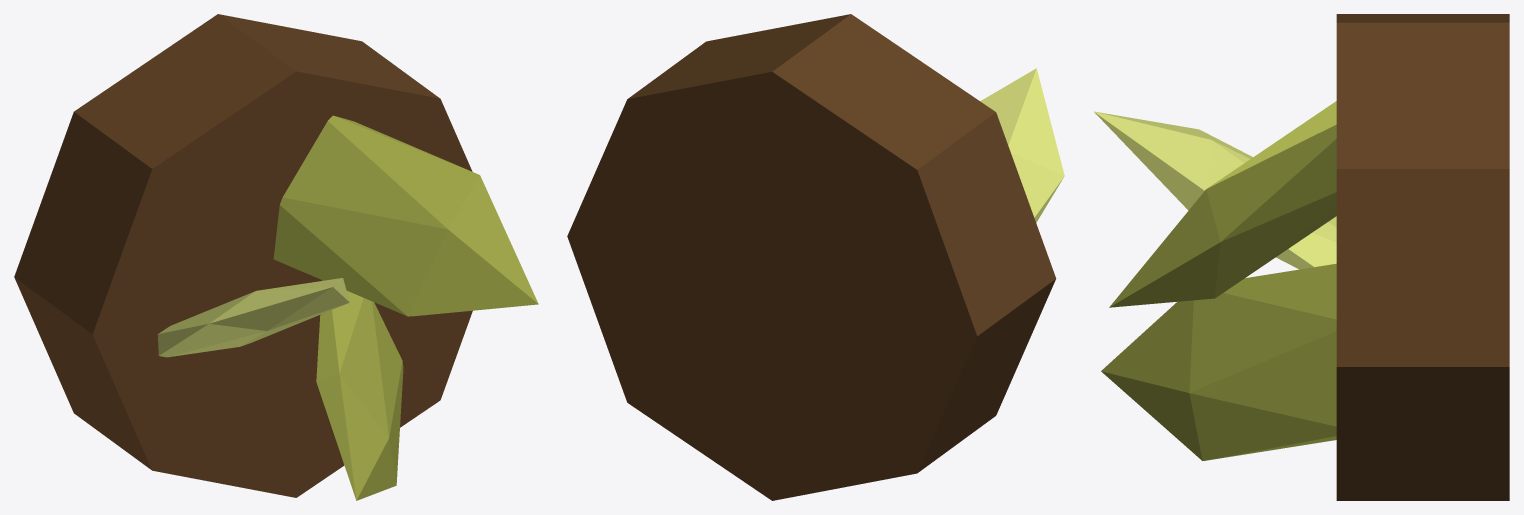
File: 1_seedling.obj
The picture shows the model from 3 angles, left to right: view 1: azimuth 30°, elevation 25°; view 2: azimuth 150°, elevation 25°; view 3: azimuth 270°, elevation 25°; orthographic projection. The views are drawn at different scales.
Parts seen in each view (by area): view 1: lantadyme_1_seedling; view 2: lantadyme_1_seedling; view 3: lantadyme_1_seedling.
Boxes of the visible parts, x1,y1,x2,y2 form: lantadyme_1_seedling: [14, 14, 538, 500]; lantadyme_1_seedling: [567, 14, 1064, 500]; lantadyme_1_seedling: [1094, 14, 1509, 500].
Bounding box in the file's own units: 0.12 × 0.12 × 0.0963.
